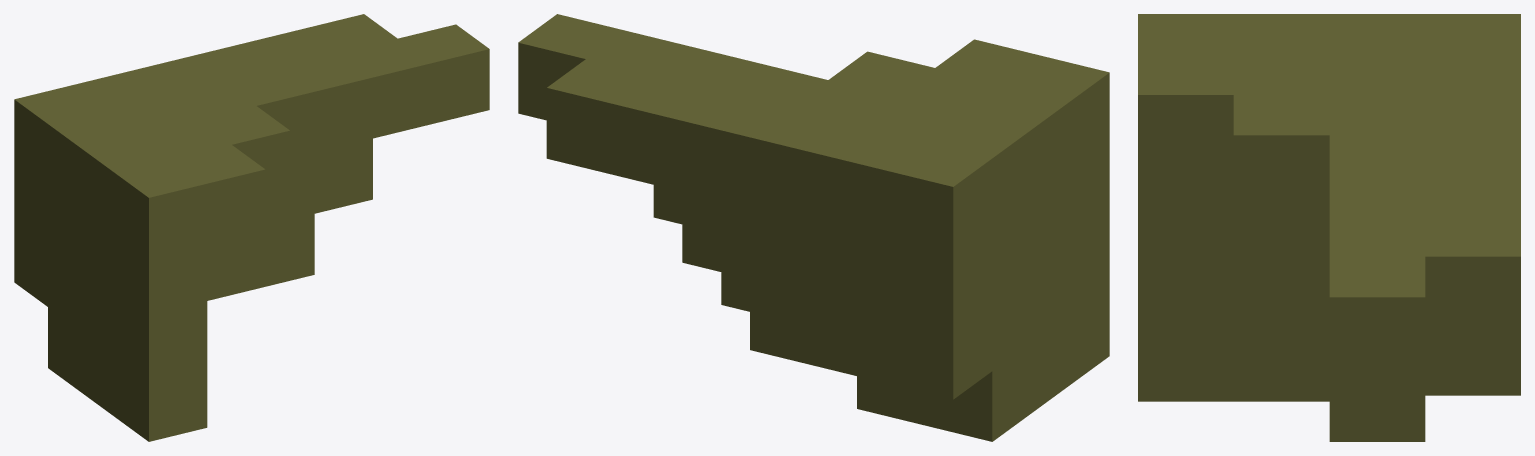
Rendered from GoblinEars.obj.
3 renders of one model, left to right at view 1: azimuth 30°, elevation 25°; view 2: azimuth 150°, elevation 25°; view 3: azimuth 270°, elevation 25°, orthographic. The views are drawn at different scales.
Size of the model in its own units: 0.7 by 0.4 by 0.4.
1 material, 1 textured.
